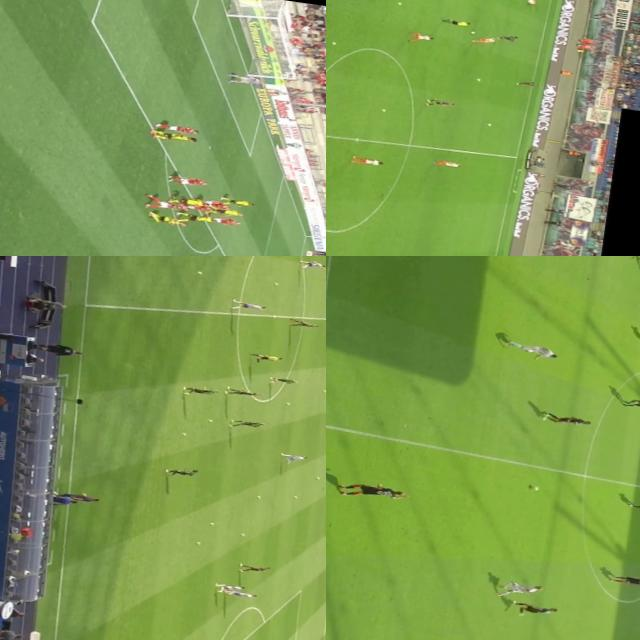ball: (524, 482, 550, 494), (484, 123, 492, 127), (330, 42, 338, 46), (396, 2, 402, 7), (208, 521, 214, 526), (380, 109, 388, 112), (476, 78, 482, 82), (257, 496, 263, 500), (195, 542, 200, 546), (274, 283, 280, 286), (294, 496, 300, 499), (197, 271, 201, 275), (322, 390, 326, 394), (286, 402, 290, 406), (182, 433, 186, 437), (208, 419, 213, 422), (316, 477, 321, 480), (472, 32, 474, 34), (242, 534, 244, 536)
player: (338, 476, 406, 504), (504, 341, 564, 358), (497, 579, 543, 601), (537, 412, 592, 430), (148, 128, 200, 146), (508, 602, 561, 619), (152, 120, 201, 138), (142, 198, 186, 214), (170, 174, 210, 190), (611, 570, 640, 590), (178, 385, 220, 398), (228, 72, 262, 88), (164, 465, 200, 480), (177, 212, 215, 226), (217, 197, 256, 210), (222, 386, 258, 400), (146, 214, 186, 226), (207, 207, 245, 219), (206, 215, 241, 228), (230, 300, 265, 313), (193, 198, 230, 210), (227, 418, 264, 430), (286, 318, 320, 331), (214, 581, 243, 596), (404, 32, 433, 46), (180, 202, 213, 214), (349, 156, 384, 167), (174, 196, 206, 208), (239, 564, 270, 576), (300, 258, 326, 272), (270, 377, 298, 388), (470, 35, 497, 46), (426, 99, 453, 110), (624, 500, 640, 517), (227, 590, 257, 598), (280, 454, 304, 464), (434, 160, 458, 169), (512, 80, 536, 88), (497, 34, 518, 43), (524, 0, 534, 5)
